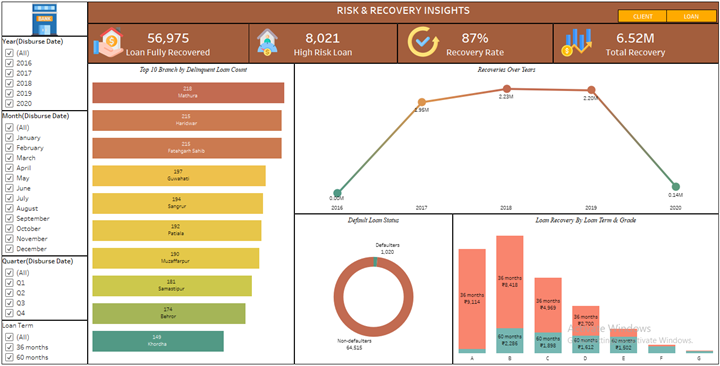

What the dashboard file says about the page in this screenshot:
{"tool":"tableau","page":{"name":"RECOVERY_DASHBOARD","canvas":[1000,1000],"units":"permille","ordinal":2},"visuals":[{"type":"image","param":"Image/Bank.png","box":[7,14.5,118.1,90.6]},{"type":"text","box":[126,16.3,866.1,50.7]},{"type":"dashboard-object","box":[855.1,32.6,69.8,34.4]},{"type":"dashboard-object","box":[921.4,32.6,69.8,34.4]},{"type":"worksheet","title":"KPI-R-LoanRecov","mark":"Automatic","box":[125.1,72.3,221.9,106.9]},{"type":"worksheet","title":"KPI-R-HighRiskLoan","mark":"Automatic","box":[347,72.3,204.4,106.9]},{"type":"worksheet","title":"KPI-R-Recov%","mark":"Automatic","box":[551.4,72.3,213.8,106.9]},{"type":"worksheet","title":"KPI-R-TotRecovery","mark":"Automatic","box":[765.2,72.3,227.8,106.9]},{"type":"image","param":"Image/HighRiskLoan.png","box":[349.8,74.3,44.2,92.4]},{"type":"image","param":"Image/RecoveredRate.png","box":[563.6,74.3,47.7,88.8]},{"type":"image","param":"Image/RecoveredLoan.png","box":[129.9,76.1,46.8,88.8]},{"type":"image","param":"Image/TotRecovery.png","box":[776.5,77.9,42.4,88.8]},{"type":"filter","title":"R-ClientByLoanTerm&Grade","param":"[federated.1ke82wi020wc2q1g72ym4128yqcx].[yr:Disbursement Date:ok]","box":[7,105.1,118.1,253.6]},{"type":"worksheet","title":"R-Top10BranchDelinq","mark":"Automatic","rows":["Branch Name"],"cols":["Client id"],"box":[125.1,179.2,284.3,806.3]},{"type":"worksheet","title":"R-RecoveriesOverYrs","mark":"Line","rows":["Recoveries","Recoveries"],"cols":["Disbursement Date"],"box":[409.4,179.2,583.6,403.1]},{"type":"filter","title":"R-ClientByLoanTerm&Grade","param":"[federated.1ke82wi020wc2q1g72ym4128yqcx].[mn:Disbursement Date:ok]","box":[7,358.7,118.1,257.3]},{"type":"worksheet","title":"R-DefaultedVsActiveLoan","mark":"Pie","rows":["Calculation_1271422527703814148","Calculation_1271422527703814148"],"box":[409.4,582.3,217.9,403.2]},{"type":"worksheet","title":"R-ClientByLoanTerm&Grade","mark":"Automatic","rows":["Calculation_1271422528229748744"],"cols":["Grade"],"box":[627.3,582.3,365.6,403.2]},{"type":"filter","title":"R-ClientByLoanTerm&Grade","param":"[federated.1ke82wi020wc2q1g72ym4128yqcx].[qr:Disbursement Date:ok]","box":[7,616,118.1,219.2]},{"type":"filter","title":"R-ClientByLoanTerm&Grade","param":"[federated.1ke82wi020wc2q1g72ym4128yqcx].[none:Loan Term:nk]","box":[7,835.1,118.1,150.4]}]}

Visuals, with their boxes on the dashboard's canvas, which has no fixed pixel size, in thousandths of its width and height (x1, y1, x2, y2). These are canvas units, not pixel positions in the 720x366 screenshot, which may show the page scaled, cropped or inside an application window:
image: (7,14,125,105)
text: (126,16,992,67)
dashboard-object: (855,33,925,67)
dashboard-object: (921,33,991,67)
"KPI-R-LoanRecov" worksheet: (125,72,347,179)
"KPI-R-HighRiskLoan" worksheet: (347,72,551,179)
"KPI-R-Recov%" worksheet: (551,72,765,179)
"KPI-R-TotRecovery" worksheet: (765,72,993,179)
image: (350,74,394,167)
image: (564,74,611,163)
image: (130,76,177,165)
image: (776,78,819,167)
"R-ClientByLoanTerm&Grade" filter: (7,105,125,359)
"R-Top10BranchDelinq" worksheet: (125,179,409,986)
"R-RecoveriesOverYrs" worksheet (Line marks): (409,179,993,582)
"R-ClientByLoanTerm&Grade" filter: (7,359,125,616)
"R-DefaultedVsActiveLoan" worksheet (Pie marks): (409,582,627,986)
"R-ClientByLoanTerm&Grade" worksheet: (627,582,993,986)
"R-ClientByLoanTerm&Grade" filter: (7,616,125,835)
"R-ClientByLoanTerm&Grade" filter: (7,835,125,986)
